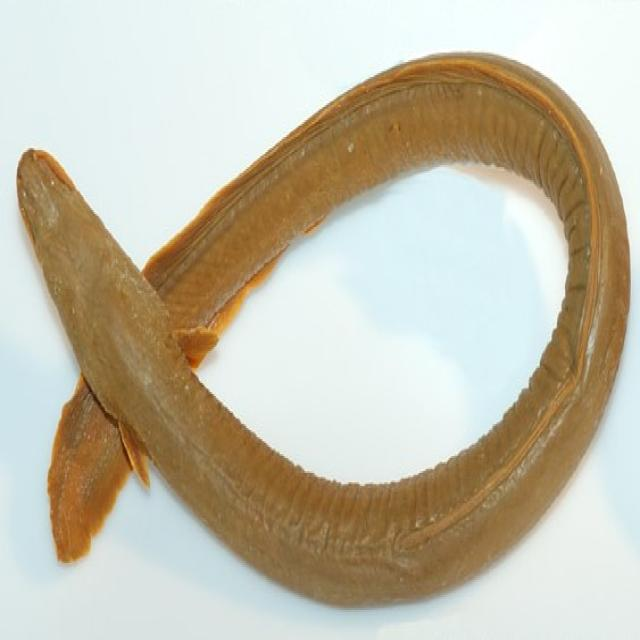Freshwater-Eel: (4, 32, 633, 618)
